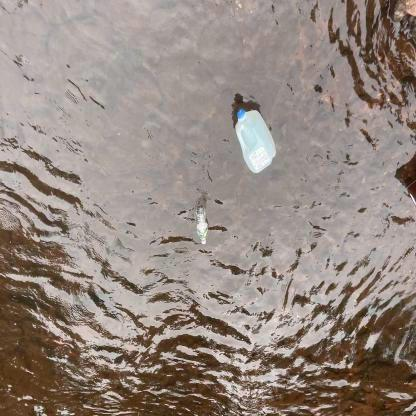Plastic: (232, 104, 280, 177), (190, 198, 212, 248)
